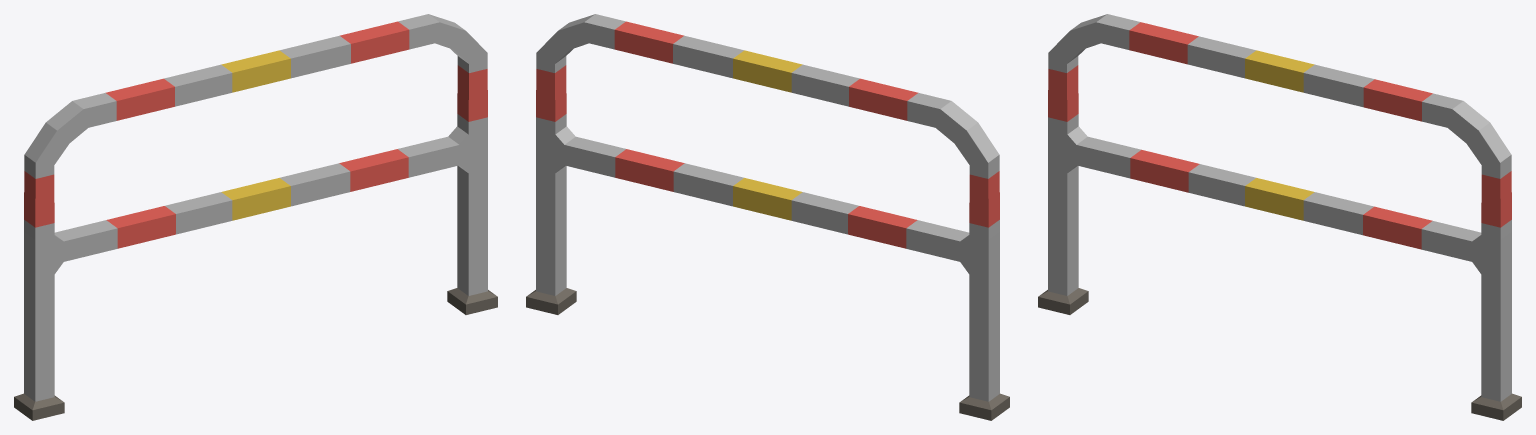
Rendered from metalfence.fbx.
The picture shows the model from 3 angles, left to right: view 1: azimuth 30°, elevation 25°; view 2: azimuth 150°, elevation 25°; view 3: azimuth 330°, elevation 25°; orthographic projection.
Visible parts, largest first — view 1: Cube; view 2: Cube; view 3: Cube.
Boxes of the visible parts, x1=… form: Cube: x1=14, y1=14, x2=497, y2=420; Cube: x1=526, y1=14, x2=1009, y2=420; Cube: x1=1038, y1=14, x2=1521, y2=420.
Bounding box in the file's own units: 2.39 × 0.1644 × 1.45.
